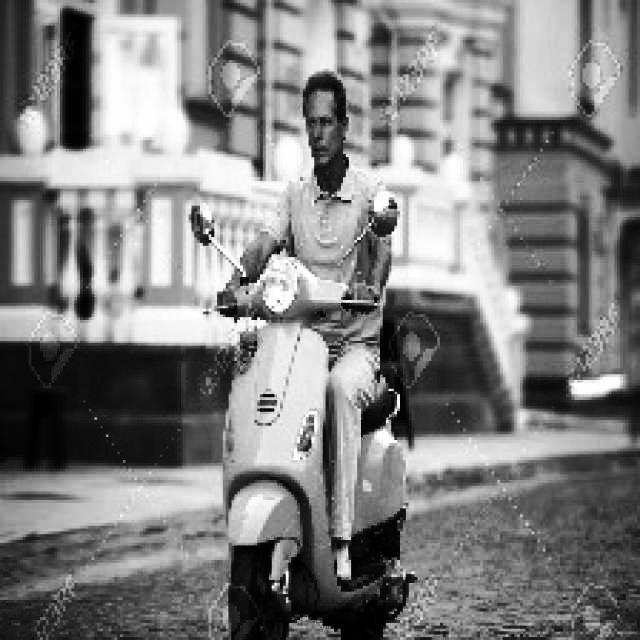Bike: (208, 260, 410, 640)
